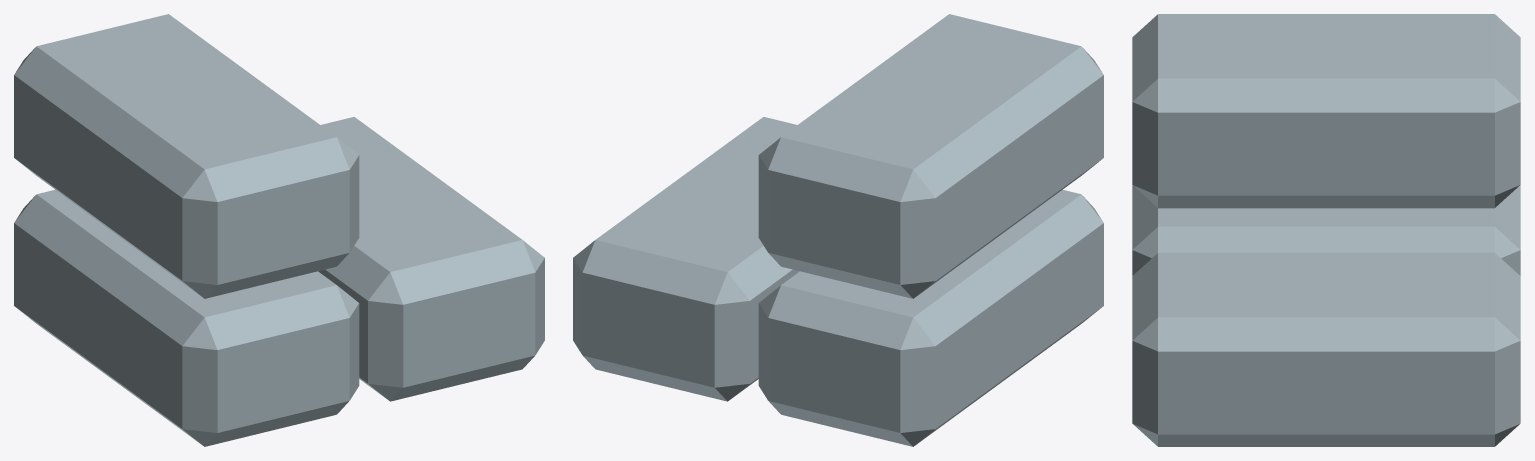
The model's file is cargo_metal.fbx.
3 views of the same model, side by side, from view 1: azimuth 30°, elevation 25°; view 2: azimuth 150°, elevation 25°; view 3: azimuth 270°, elevation 25° (orthographic).
Parts seen in each view (by area): view 1: cargo_metal_mesh; view 2: cargo_metal_mesh; view 3: cargo_metal_mesh.
Boxes of the visible parts, x1,y1,x2,y2 form: cargo_metal_mesh: (14,14,544,446); cargo_metal_mesh: (573,14,1103,446); cargo_metal_mesh: (1132,14,1520,446).
Size of the model in its own units: 0.41 by 0.3 by 0.38.
